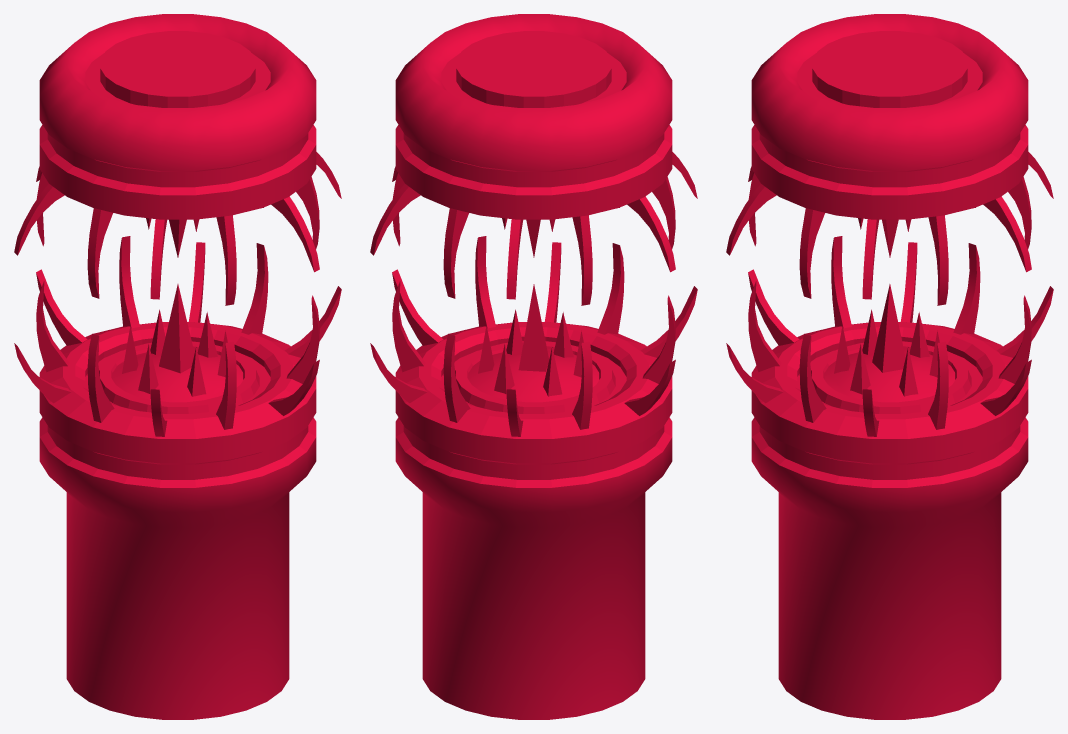
The model's file is SM_ReactorPillar_E.fbx.
3 views of the same model, side by side, from view 1: azimuth 30°, elevation 25°; view 2: azimuth 150°, elevation 25°; view 3: azimuth 270°, elevation 25° (orthographic).
Visible parts, largest first — view 1: SM_ReactorPillar_E; view 2: SM_ReactorPillar_E; view 3: SM_ReactorPillar_E.
Part boxes in pixels (x1=…): SM_ReactorPillar_E: x1=14, y1=14, x2=341, y2=719; SM_ReactorPillar_E: x1=370, y1=14, x2=697, y2=719; SM_ReactorPillar_E: x1=726, y1=14, x2=1053, y2=719.
Size of the model in its own units: 3399 by 3191 by 6576.
